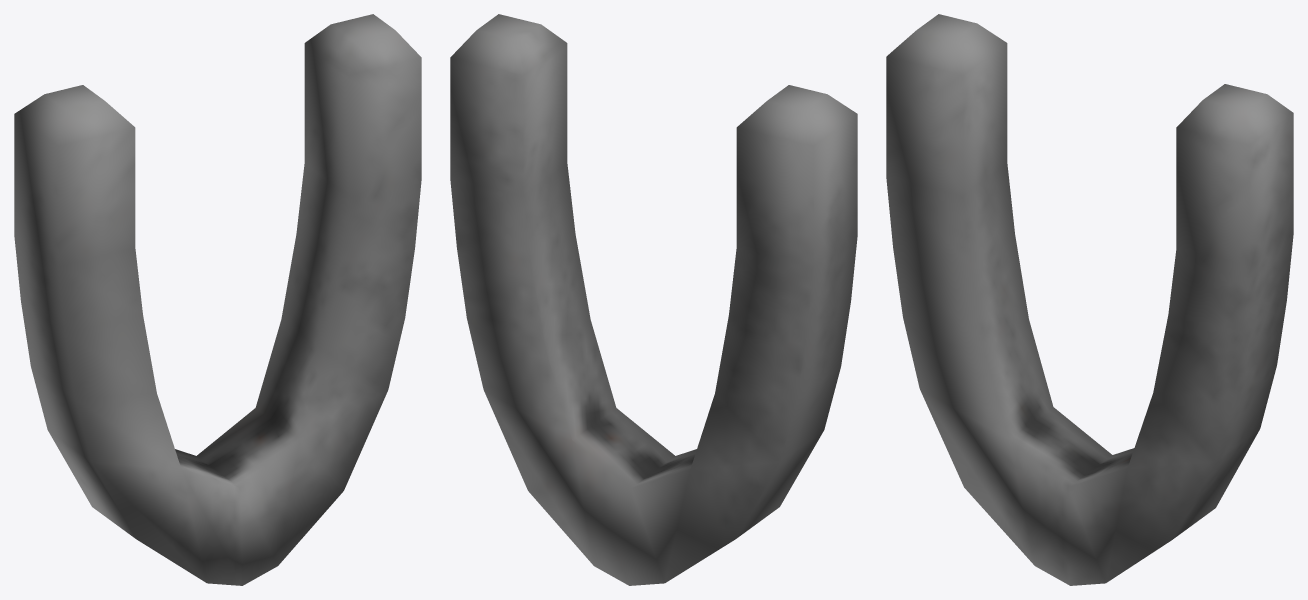
The model's file is StrapTail_Open.fbx.
The picture shows the model from 3 angles, left to right: view 1: azimuth 30°, elevation 25°; view 2: azimuth 150°, elevation 25°; view 3: azimuth 330°, elevation 25°; orthographic projection.
Parts seen in each view (by area): view 1: StrapTail_Open_LOD0; view 2: StrapTail_Open_LOD0; view 3: StrapTail_Open_LOD0.
Part boxes in pixels (bbox=[...]): StrapTail_Open_LOD0: bbox=[14, 14, 421, 585]; StrapTail_Open_LOD0: bbox=[450, 14, 857, 585]; StrapTail_Open_LOD0: bbox=[886, 14, 1293, 585].
Size of what is drawn, in the model's own units: 14.01 by 18.7 by 2.95.
